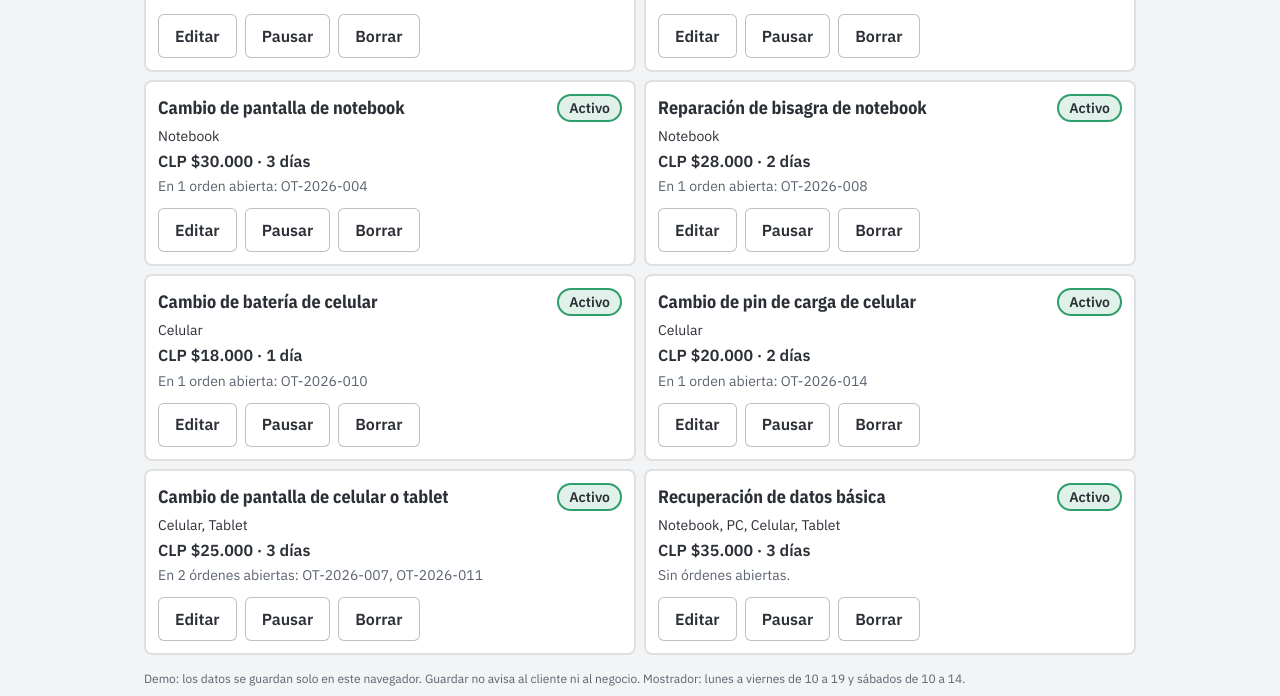
Test case: criterio 11: no se borra un servicio con órdenes abiertas › un servicio sin órdenes abiertas se borra después de confirmar
(page scrolled)
Click the button "Borrar" below "Recuperación de datos básica". click: (879, 619)
box: [838, 597, 920, 641]
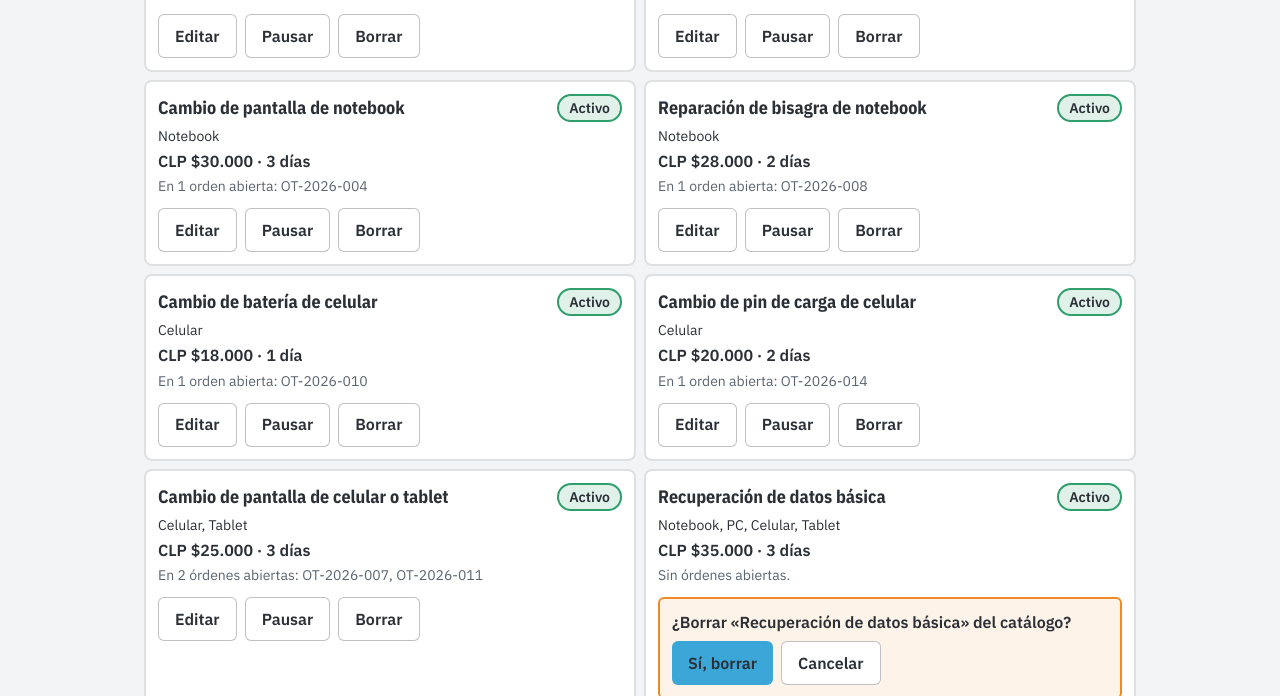
Click the button "Sí, borrar". click: (722, 663)
box: [672, 641, 773, 685]
(page scrolled)
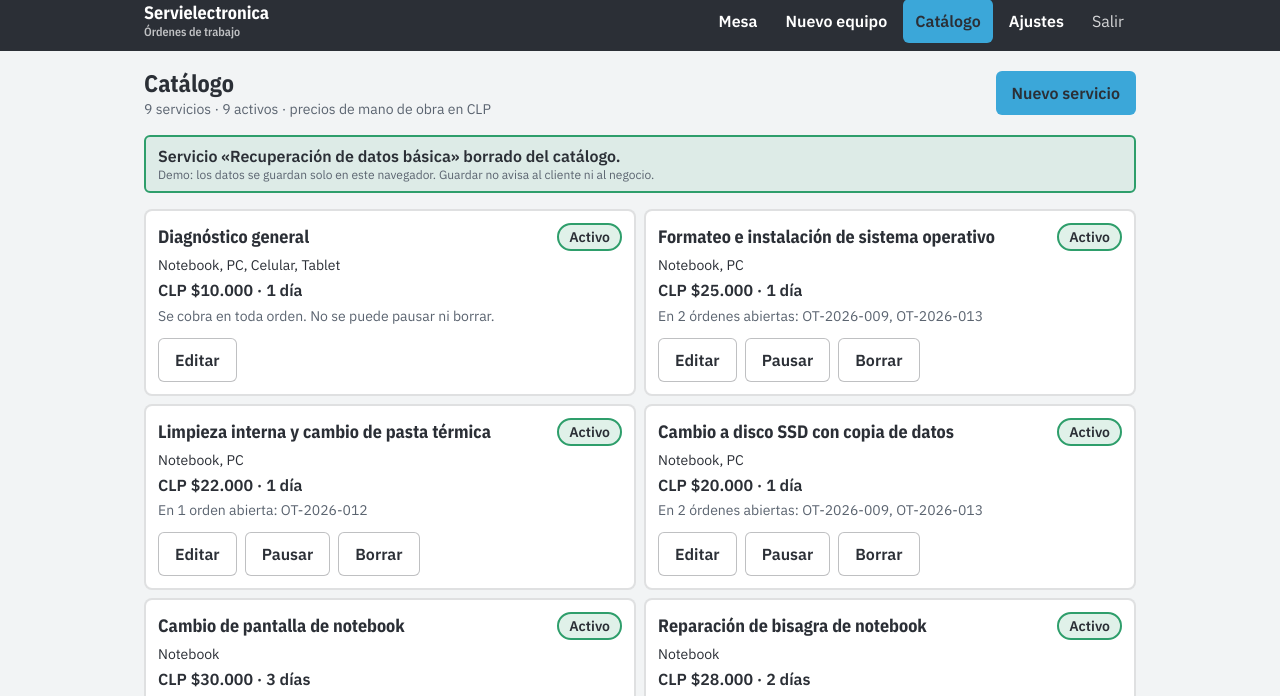
Result: the message shows "borrado del catálogo" at [158, 146, 621, 166]
Result: the text "9 servicios · 9 activos · precios de mano de obra en CLP" is shown at [144, 99, 491, 119]
